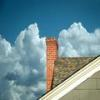chimneys: (46, 38, 58, 90)
